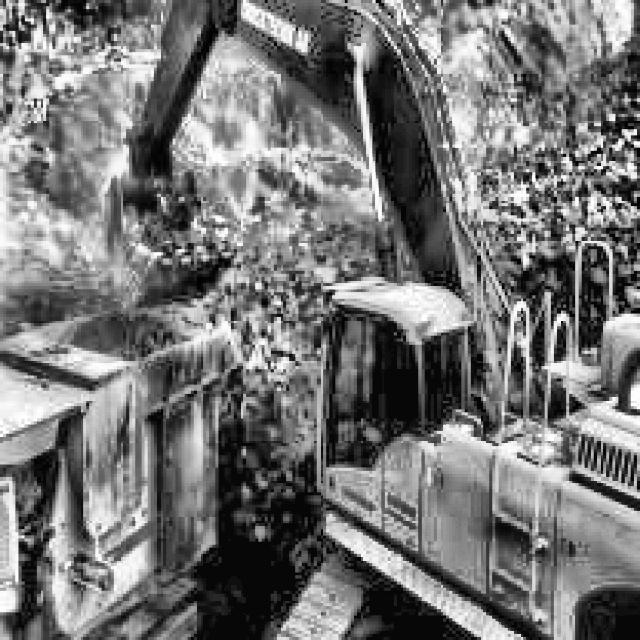excavator: (101, 0, 640, 640)
